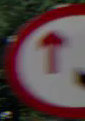Two way: (20, 23, 84, 81)
